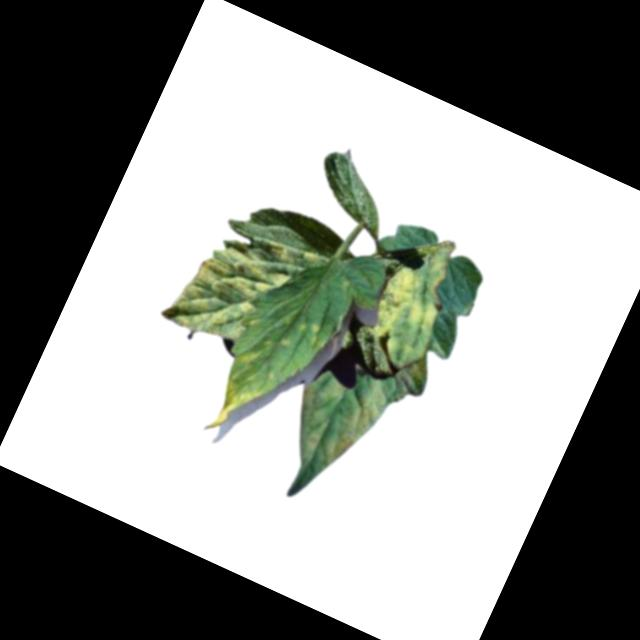Leaf_Mold: (161, 209, 305, 359), (278, 352, 397, 480), (361, 230, 465, 363), (201, 347, 283, 448)
